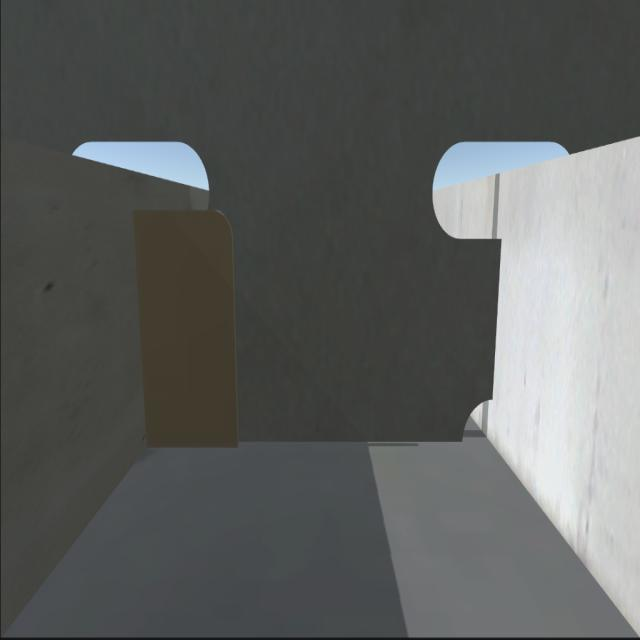fillet_hole: (458, 391, 496, 439)
fillet_yong_jeop_jang: (148, 440, 468, 445)
longi_yong_jeop_jang: (131, 214, 152, 446), (491, 238, 512, 399)
plate_CP05: (137, 212, 240, 450)
